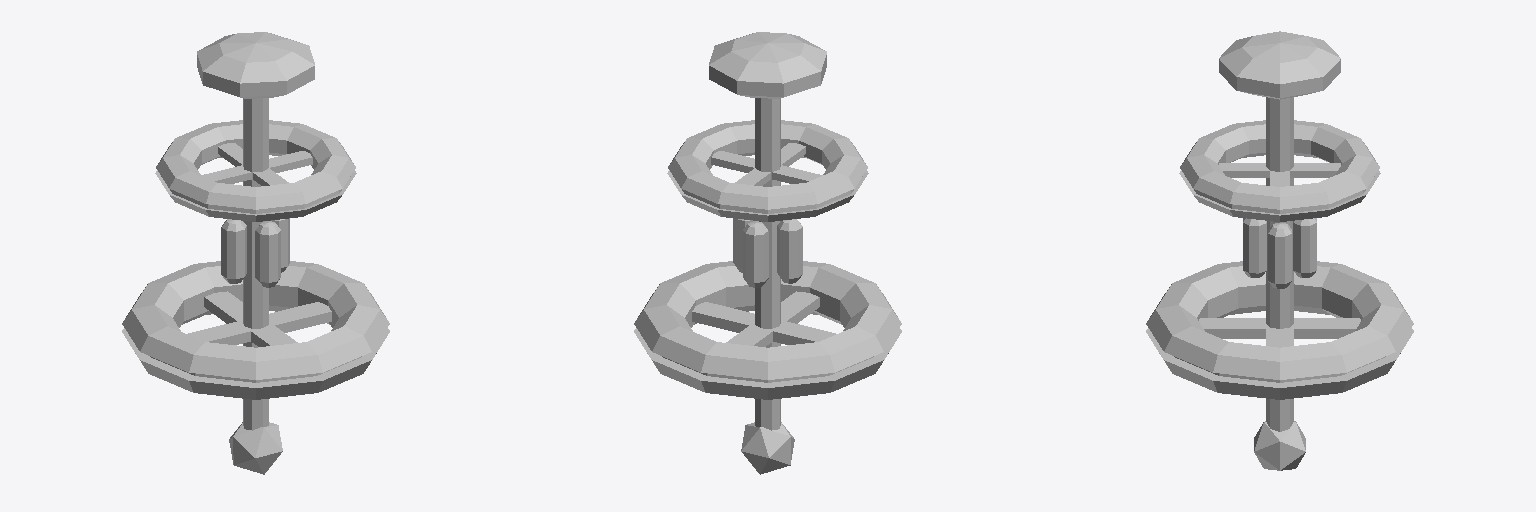
The model's file is space_station.obj.
3 renders of one model, left to right at view 1: azimuth 30°, elevation 25°; view 2: azimuth 150°, elevation 25°; view 3: azimuth 270°, elevation 25°, orthographic.
Visible parts, largest first — view 1: SpaceStation_Cube; view 2: SpaceStation_Cube; view 3: SpaceStation_Cube.
Boxes of the visible parts, box(x1,y1,x2,y2) form: SpaceStation_Cube: box(122, 32, 389, 474); SpaceStation_Cube: box(634, 32, 901, 474); SpaceStation_Cube: box(1146, 31, 1413, 470).
Bounding box in the file's own units: 19.74 × 34.52 × 19.74.